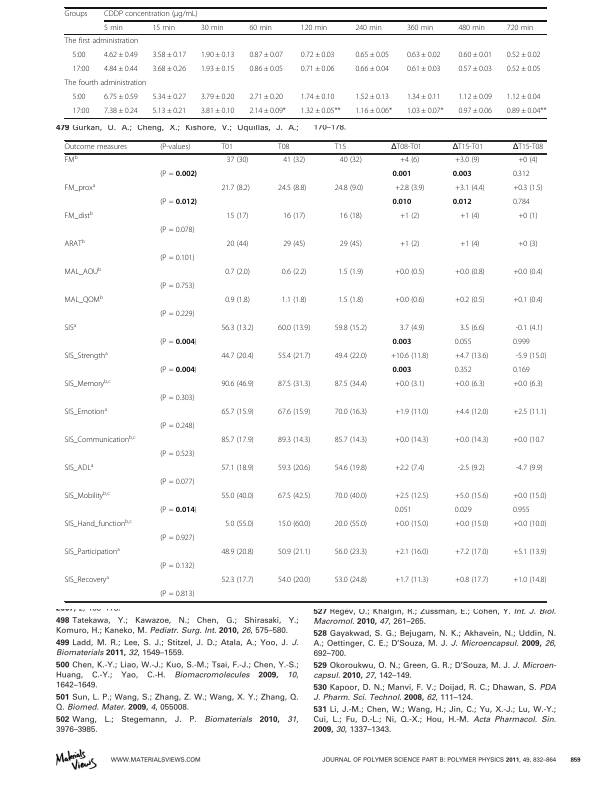borderless: (63, 138, 546, 601), (63, 6, 547, 118)
cell: (103, 10, 199, 19), (64, 78, 147, 88), (64, 434, 137, 445), (64, 518, 133, 529), (64, 36, 139, 46), (64, 546, 121, 557), (64, 143, 128, 152), (64, 378, 112, 389), (64, 490, 111, 501), (64, 574, 110, 585), (64, 350, 109, 361), (64, 406, 108, 417), (64, 294, 104, 305), (64, 266, 102, 277), (300, 106, 341, 116), (506, 106, 547, 116), (248, 106, 287, 116), (354, 106, 393, 116), (406, 106, 444, 116), (103, 50, 139, 60), (151, 50, 187, 60), (248, 50, 284, 60), (354, 50, 390, 60), (457, 50, 493, 60), (103, 64, 139, 74), (151, 64, 187, 74), (248, 64, 284, 74), (354, 64, 390, 74), (457, 64, 493, 74), (103, 92, 139, 102), (151, 92, 187, 102), (248, 92, 284, 102), (354, 92, 390, 102), (457, 92, 493, 102), (103, 106, 139, 116), (151, 106, 187, 116), (457, 106, 493, 116), (64, 182, 96, 193), (159, 170, 198, 179), (159, 198, 198, 207), (159, 338, 198, 347), (390, 352, 429, 361), (159, 366, 198, 375), (159, 506, 198, 515), (200, 50, 235, 60), (300, 50, 335, 60), (406, 50, 441, 60), (506, 50, 541, 60), (200, 64, 235, 74), (300, 64, 335, 74), (406, 64, 441, 74), (506, 64, 541, 74), (200, 92, 235, 102), (300, 92, 335, 102), (406, 92, 441, 102), (506, 92, 541, 102), (200, 106, 235, 116), (64, 210, 94, 221), (64, 462, 94, 473), (159, 226, 195, 235), (159, 254, 195, 263), (159, 282, 195, 291), (159, 310, 195, 319), (159, 394, 195, 403), (159, 422, 195, 431), (159, 450, 195, 459), (159, 478, 195, 487), (159, 534, 195, 543), (159, 562, 195, 571), (159, 590, 195, 599), (220, 324, 255, 333), (220, 352, 255, 361), (454, 352, 489, 361), (220, 380, 255, 389), (220, 408, 255, 417), (394, 408, 429, 417), (454, 408, 489, 417), (512, 408, 547, 417), (220, 436, 255, 445), (394, 436, 429, 445), (454, 436, 489, 445), (220, 464, 255, 473), (220, 492, 255, 501), (394, 492, 429, 501), (454, 492, 489, 501), (512, 492, 547, 501), (394, 520, 429, 529), (454, 520, 489, 529), (512, 520, 547, 529), (220, 548, 255, 557), (394, 548, 429, 557), (454, 548, 489, 557), (512, 548, 547, 557), (220, 576, 255, 585), (394, 576, 429, 585), (454, 576, 489, 585), (512, 576, 547, 585), (277, 324, 311, 333), (334, 324, 368, 333), (277, 352, 311, 361), (334, 352, 368, 361), (277, 380, 311, 389), (334, 380, 368, 389), (277, 408, 311, 417), (334, 408, 368, 417), (277, 436, 311, 445), (334, 436, 368, 445), (277, 464, 311, 473), (334, 464, 368, 473), (277, 492, 311, 501), (334, 492, 368, 501), (277, 520, 311, 529), (334, 520, 368, 529), (277, 548, 311, 557), (334, 548, 368, 557), (277, 576, 311, 585), (334, 576, 368, 585), (390, 143, 423, 152), (512, 436, 545, 445), (159, 143, 191, 152), (452, 143, 484, 152), (512, 143, 544, 152), (454, 184, 486, 193), (512, 184, 544, 193), (454, 268, 486, 277), (512, 268, 544, 277), (454, 296, 486, 305), (512, 296, 544, 305), (515, 352, 547, 361), (454, 380, 486, 389), (512, 380, 544, 389), (220, 184, 251, 193), (394, 184, 425, 193), (394, 268, 425, 277), (394, 296, 425, 305), (394, 380, 425, 389), (394, 464, 425, 473), (224, 520, 255, 529), (277, 184, 307, 193), (334, 184, 364, 193), (354, 23, 383, 32), (457, 23, 486, 32), (515, 324, 544, 333), (457, 464, 486, 473), (515, 464, 544, 473), (300, 23, 328, 32), (406, 23, 434, 32), (506, 23, 534, 32), (224, 268, 251, 277), (337, 268, 364, 277), (224, 296, 251, 305), (337, 296, 364, 305), (459, 324, 486, 333), (64, 238, 86, 249), (454, 156, 480, 165), (281, 268, 307, 277), (281, 296, 307, 305), (399, 324, 425, 333), (151, 23, 176, 32), (248, 23, 273, 32), (64, 10, 88, 19), (200, 23, 224, 32), (282, 156, 306, 165), (339, 156, 363, 165), (282, 212, 306, 221), (339, 212, 363, 221), (282, 240, 306, 249), (339, 240, 363, 249), (226, 156, 249, 165), (226, 212, 249, 221), (226, 240, 249, 249), (71, 64, 90, 74), (71, 106, 90, 116), (103, 23, 124, 32), (399, 156, 420, 165), (517, 156, 538, 165), (399, 212, 420, 221), (459, 212, 480, 221), (517, 212, 538, 221), (399, 240, 420, 249), (459, 240, 480, 249), (517, 240, 538, 249), (391, 170, 412, 178), (391, 198, 412, 206), (391, 338, 412, 346), (391, 366, 412, 374), (64, 154, 79, 165), (512, 170, 530, 179), (512, 198, 530, 207), (454, 338, 472, 347), (512, 338, 530, 347), (454, 366, 472, 375), (512, 366, 530, 375), (394, 506, 412, 515), (454, 506, 472, 515), (512, 506, 530, 515), (452, 170, 472, 178), (452, 198, 472, 206), (71, 50, 86, 60), (71, 92, 86, 102), (64, 322, 77, 333), (220, 143, 234, 152), (277, 143, 290, 152), (334, 143, 347, 152)
